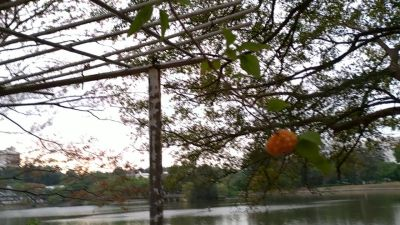eggs: (264, 127, 298, 157)
